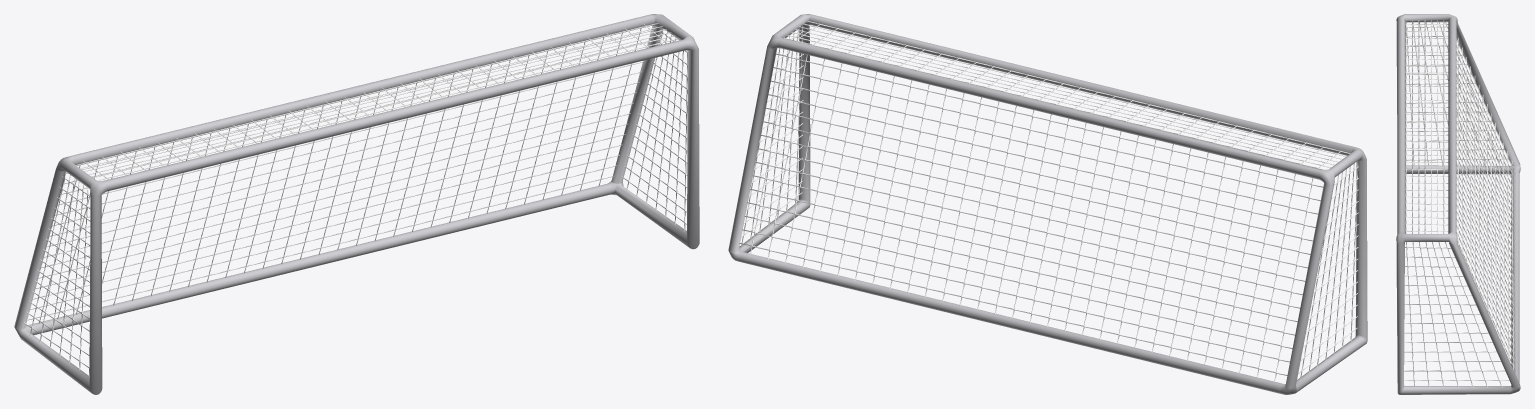
The model's file is goal-frame.glb.
The picture shows the model from 3 angles, left to right: view 1: azimuth 30°, elevation 25°; view 2: azimuth 150°, elevation 25°; view 3: azimuth 270°, elevation 25°; orthographic projection. The views are drawn at different scales.
Visible parts, largest first — view 1: Metallic, Net; view 2: Net, Metallic; view 3: Net, Metallic.
Boxes of the visible parts, x1,y1,x2,y2 form: Metallic: (14,14,699,394); Net: (23,23,687,376); Net: (739,21,1358,381); Metallic: (728,14,1367,394); Net: (1404,19,1516,387); Metallic: (1396,14,1520,394).
Bounding box in the file's own units: 7.4 × 2.44 × 1.72.
2 materials, 2 textured.
